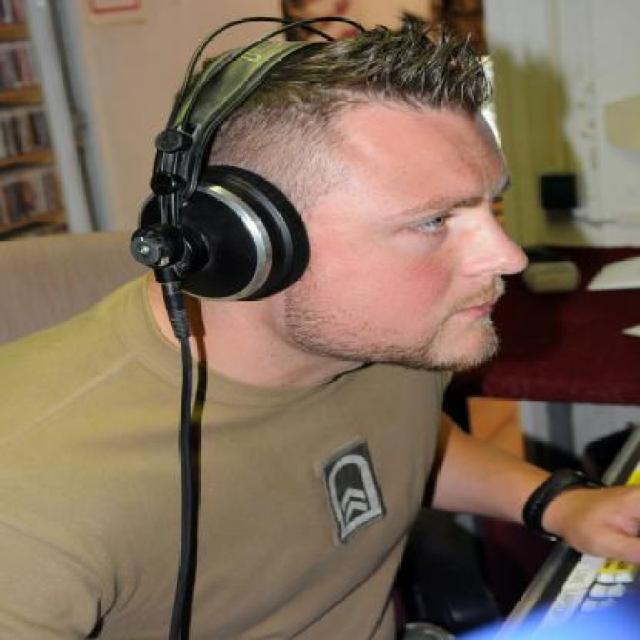earphone: (130, 0, 323, 365)
